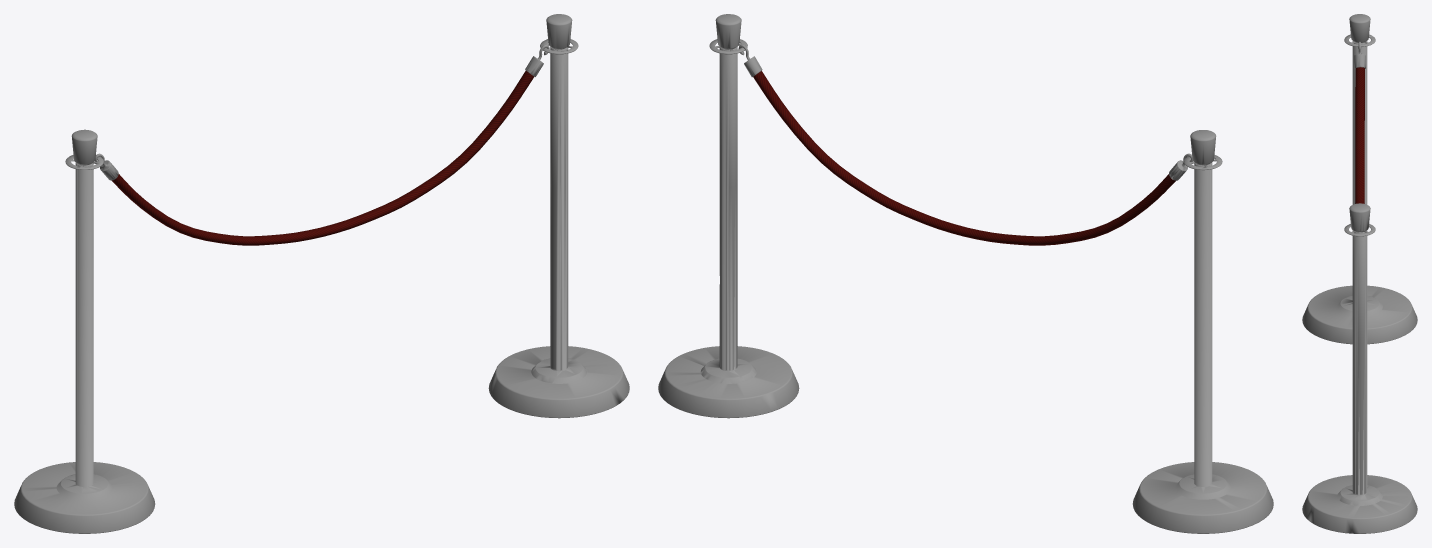
The model's file is rope-lite.glb.
3 views of the same model, side by side, from view 1: azimuth 30°, elevation 25°; view 2: azimuth 150°, elevation 25°; view 3: azimuth 270°, elevation 25° (orthographic). The views are drawn at different scales.
Parts seen in each view (by area): view 1: Object_4, Object_6; view 2: Object_4, Object_6; view 3: Object_4, Object_6.
Part boxes in pixels (bbox=[...]): Object_4: bbox=[14, 14, 629, 533]; Object_6: bbox=[112, 70, 533, 245]; Object_4: bbox=[658, 14, 1273, 533]; Object_6: bbox=[753, 71, 1175, 245]; Object_4: bbox=[1302, 14, 1417, 533]; Object_6: bbox=[1355, 67, 1364, 203].
Size of the model in its own units: 1.5 by 0.8903 by 0.3072.
2 materials, 1 textured.
